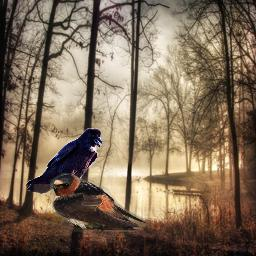Crow: (26, 128, 102, 194)
Swallow: (50, 173, 149, 232)
